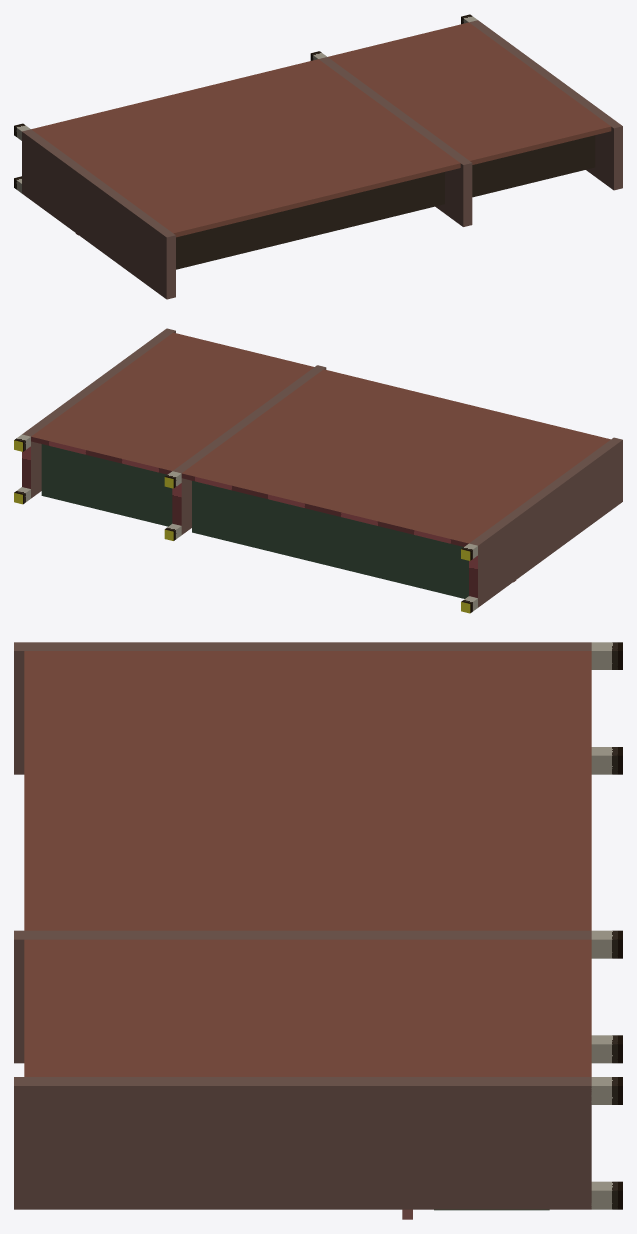
The model's file is prop_library_01.glb.
3 views of the same model, one above another, from view 1: azimuth 30°, elevation 25°; view 2: azimuth 150°, elevation 25°; view 3: azimuth 270°, elevation 25° (orthographic). The views are drawn at different scales.
Parts seen in each view (by area): view 1: prop_library_01; view 2: prop_library_01; view 3: prop_library_01.
Boxes of the visible parts, x1,y1,x2,y2 form: prop_library_01: (14,14,622,299); prop_library_01: (14,328,622,613); prop_library_01: (14,642,622,1219).
Size of the model in its own units: 200 by 30 by 116.
12 materials, 12 textured.
